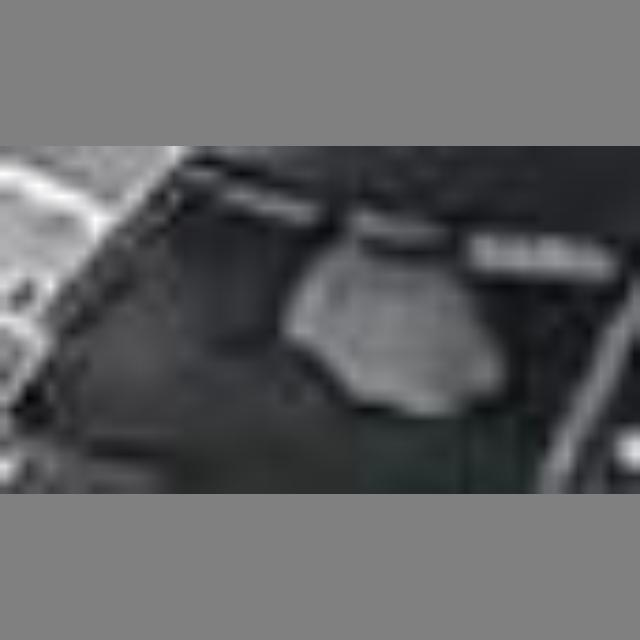tidak-pakai: (269, 213, 472, 404)
